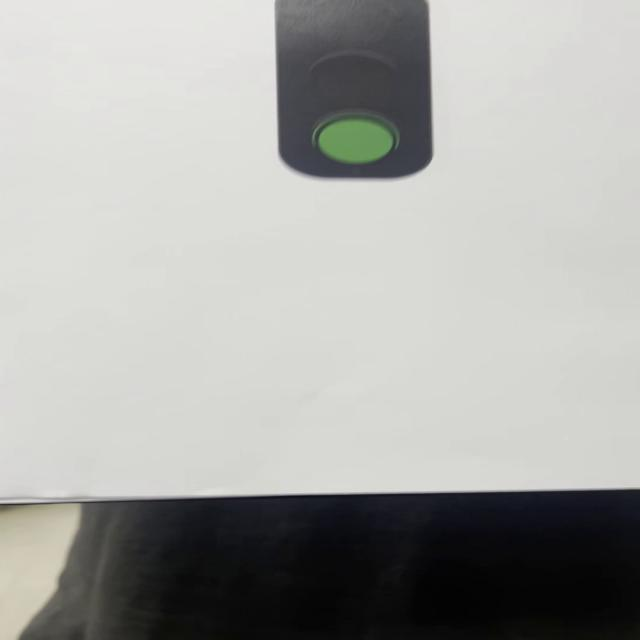green: (276, 3, 436, 180)
